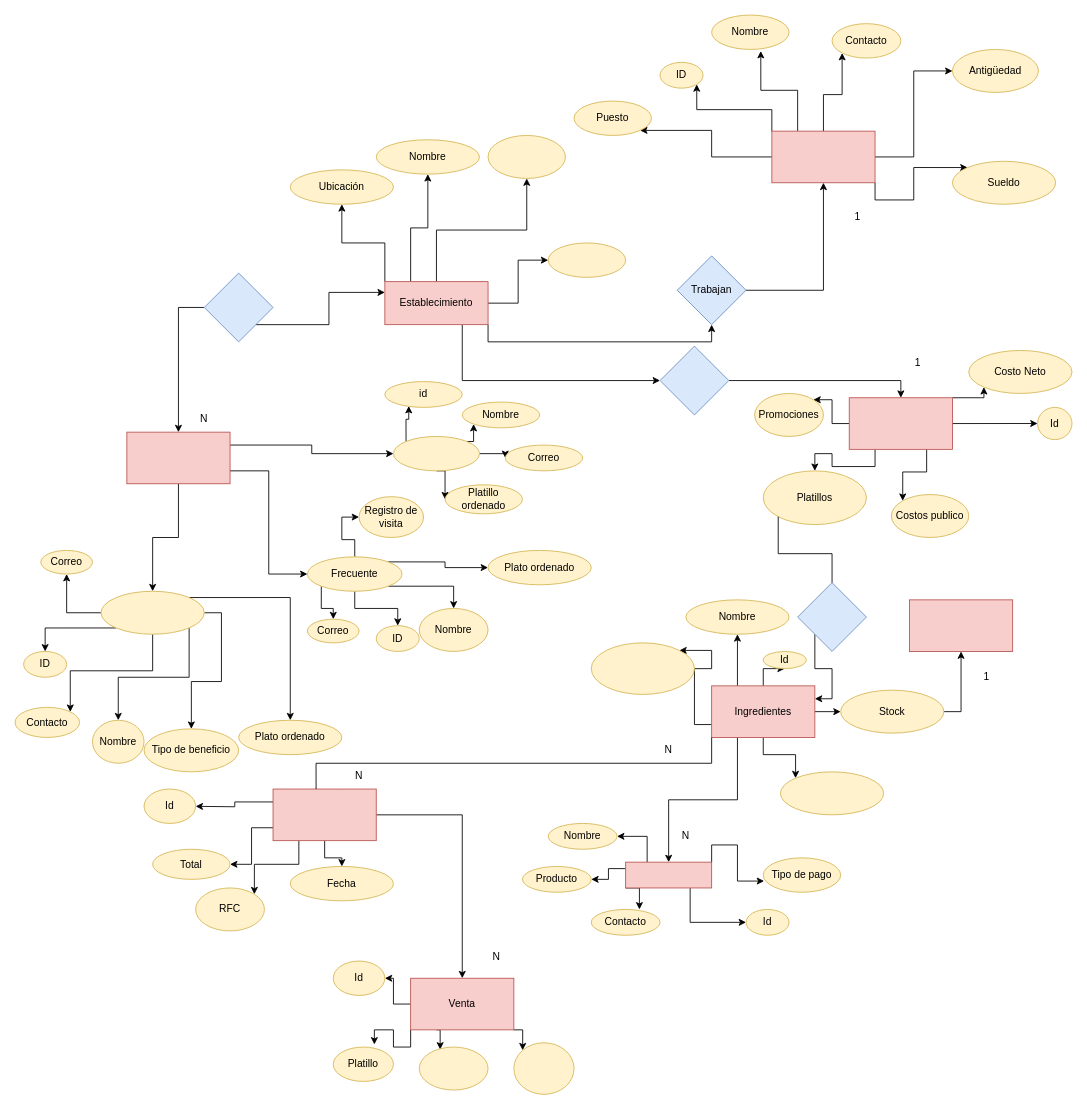
This 1087x1109 diagram has some shape labels left out. Each missing label, with the centre of its shape:
"Cantidad" belongs at point (453, 1068).
"Clientes" belongs at point (178, 457).
"Club Frecuentes" belongs at point (152, 612).
"Concepto" belongs at point (526, 156).
"Costo proveedor" belongs at point (642, 668).
"Están en" belongs at point (831, 616).
"Factura" belongs at point (324, 814).
"Imagen" belongs at point (586, 259).
"Inventario" belongs at point (961, 625).
"Llegan a" belongs at point (238, 307).
"Medida" belongs at point (832, 793).
"Menú" belongs at point (900, 423).
"Nuevo Comensal" belongs at point (436, 453).
"Personal" belongs at point (823, 156).
"Proveedores" belongs at point (668, 874).
"Se ofrece" belongs at point (694, 380).
"Sub total" belongs at point (543, 1068).
